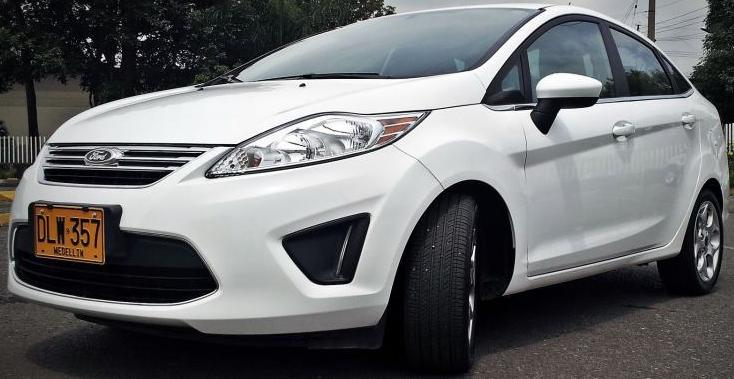front_view: (6, 135, 420, 330)
headlight: (210, 105, 438, 186)
side_glass: (521, 20, 693, 109)
